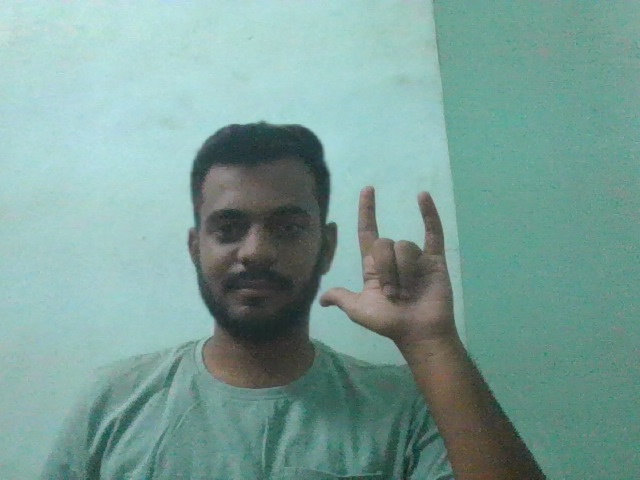iloveyou: (305, 167, 475, 348)
